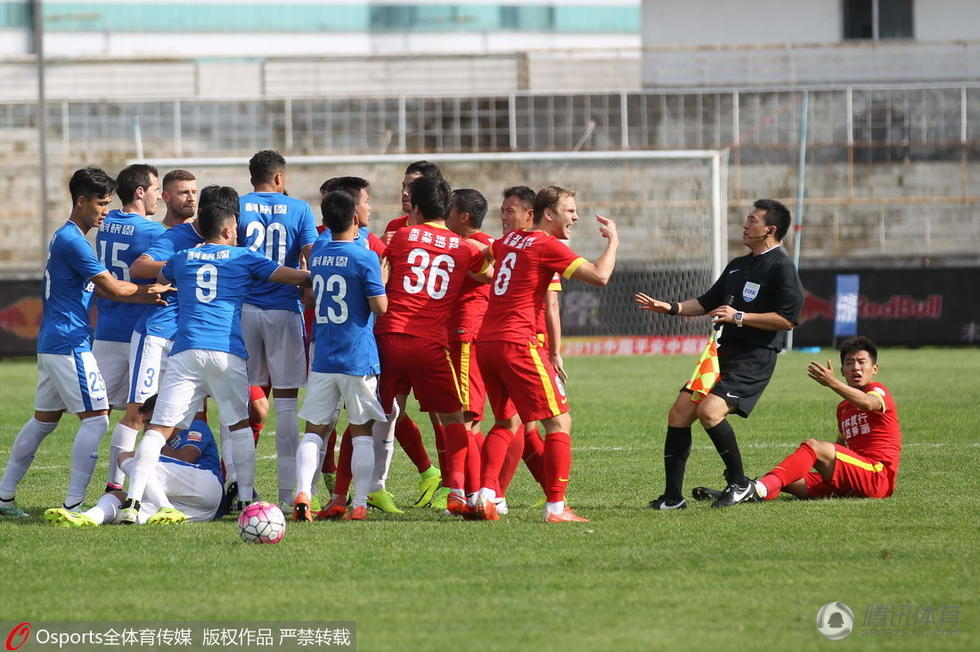10+: (20, 125, 831, 541)
down: (732, 336, 902, 511), (53, 387, 219, 546)
